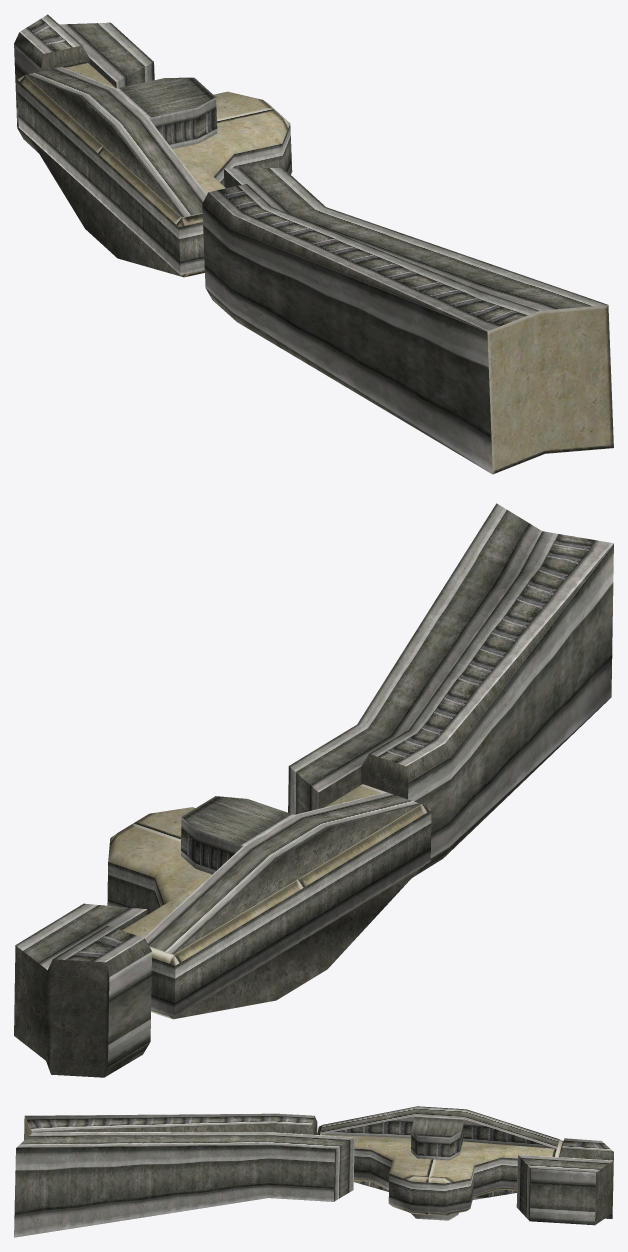
Rendered from DWARF_PALACE_MAINHALL_DEBREE06.fbx.
The picture shows the model from 3 angles, top to bottom: view 1: azimuth 30°, elevation 25°; view 2: azimuth 150°, elevation 25°; view 3: azimuth 270°, elevation 25°; orthographic projection. The views are drawn at different scales.
Visible parts, largest first — view 1: DWARF_PALACE_MAINHALL_DEBREE06; view 2: DWARF_PALACE_MAINHALL_DEBREE06; view 3: DWARF_PALACE_MAINHALL_DEBREE06.
Boxes of the visible parts, x1=… form: DWARF_PALACE_MAINHALL_DEBREE06: x1=14, y1=14, x2=613, y2=474; DWARF_PALACE_MAINHALL_DEBREE06: x1=14, y1=503, x2=613, y2=1077; DWARF_PALACE_MAINHALL_DEBREE06: x1=14, y1=1106, x2=613, y2=1237.
Bounding box in the file's own units: 33611 × 25287 × 146101.
Materials: 4 (4 with a texture image).
